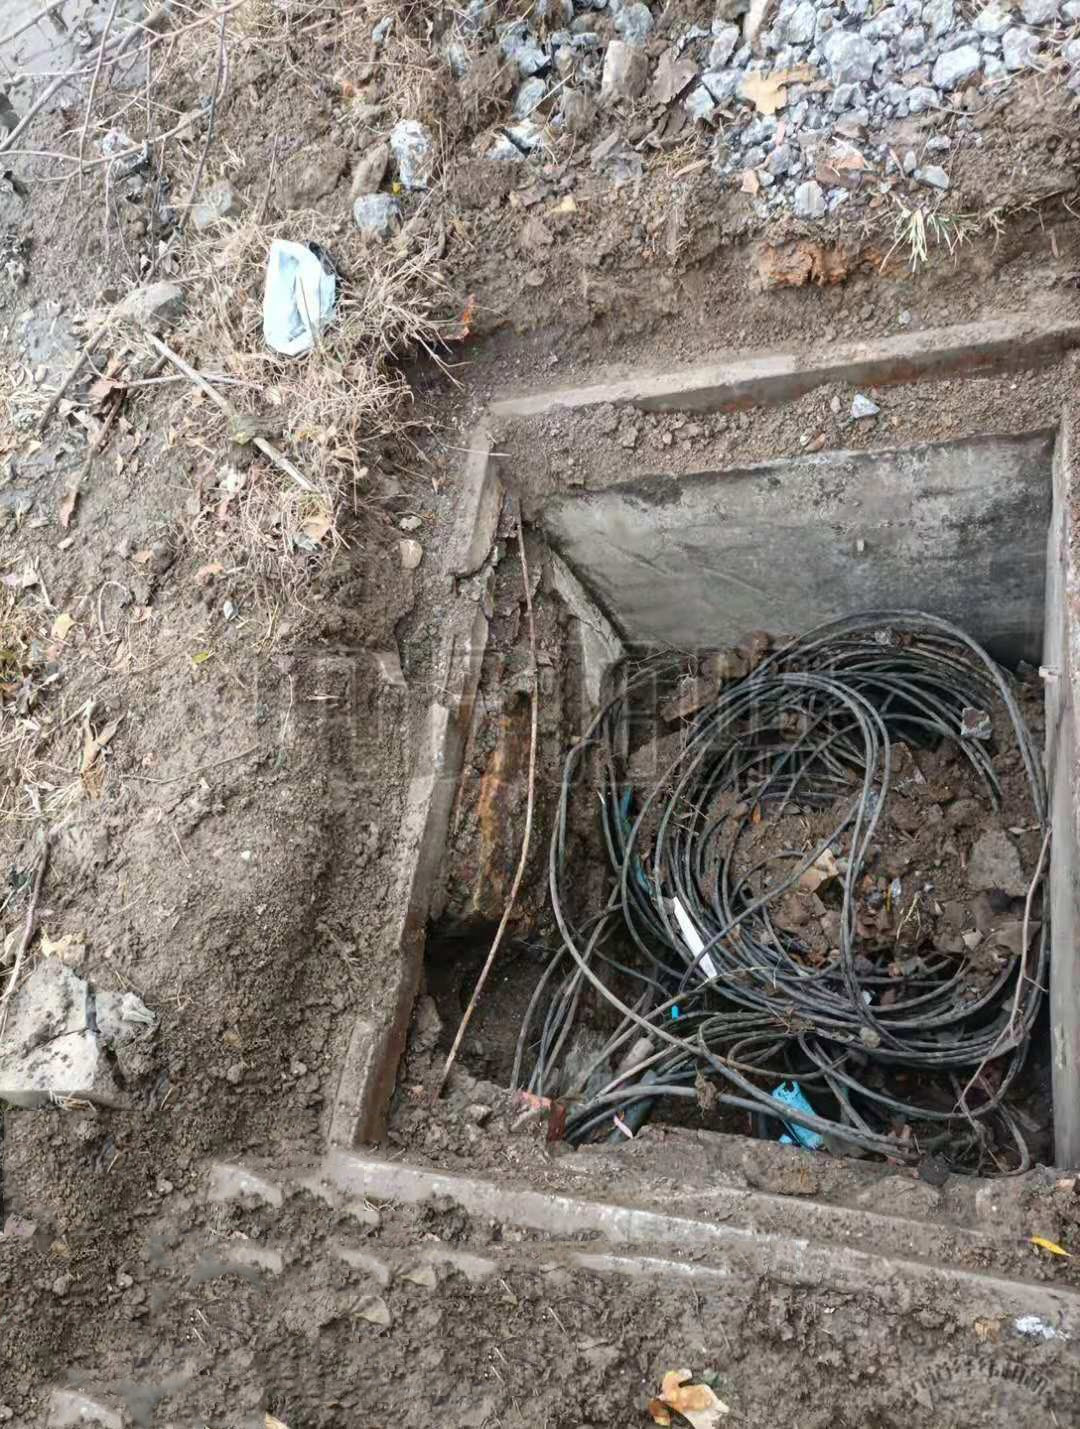lose: (303, 307, 1080, 1331)
